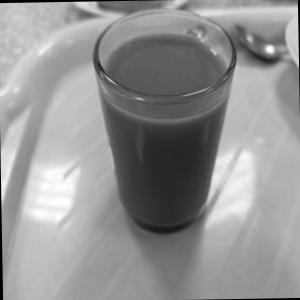coffee: (85, 3, 246, 252)
